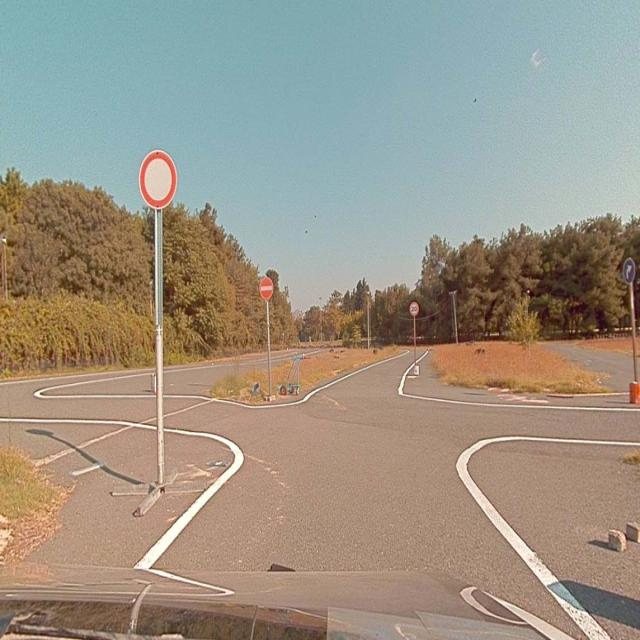20: (410, 302, 420, 315)
girisyok: (260, 277, 274, 298)
sag: (624, 260, 634, 282)
